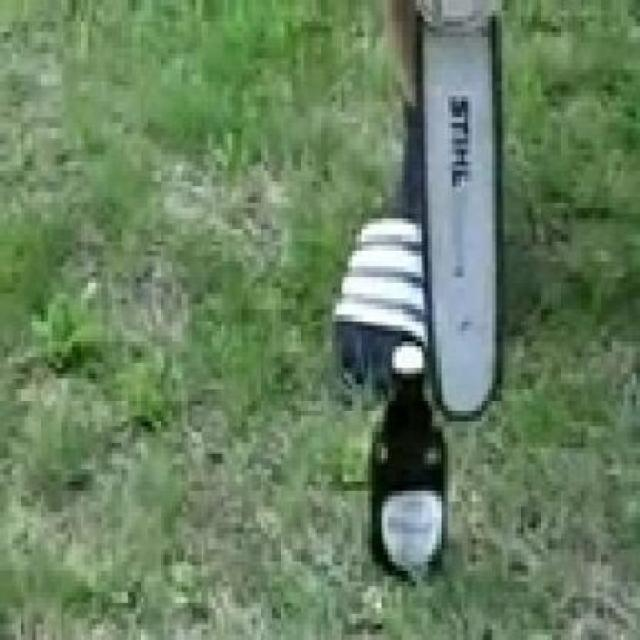Chainsaw: (417, 0, 506, 420)
